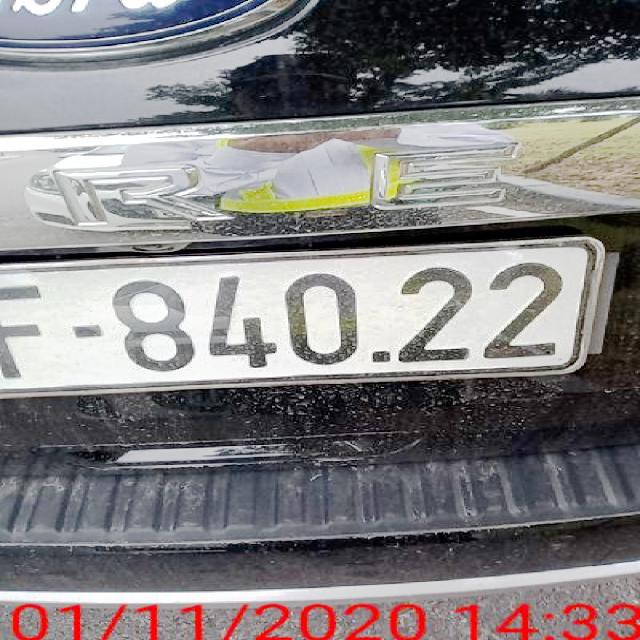license_plate: (1, 243, 594, 400)
